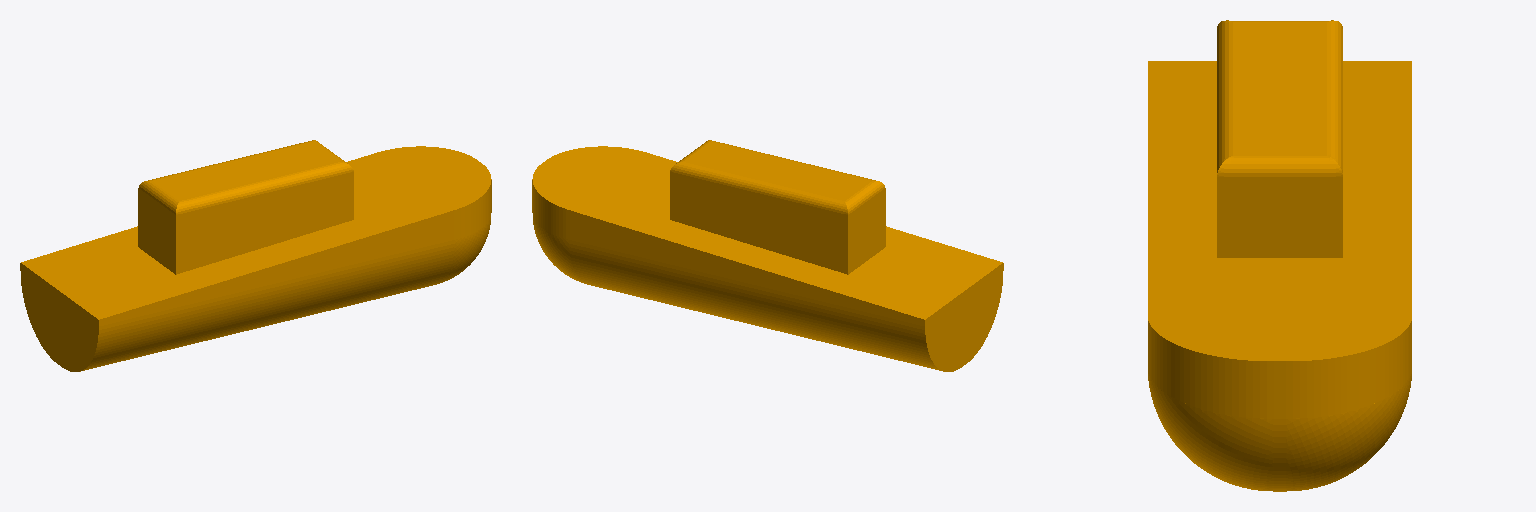
The robot description file, URDF, robot "small_motor_boat_vessel":
<?xml version="1.0"?>
<!-- Controllable small motor boat traffic vessel. See sail_boat_vessel.urdf
     for the general method (mesh/box match models/small_motor_boat_vessel/
     model.sdf; mass is a class-plausible estimate - ~2000 kg for a ~6.5m
     motor boat; inertia is the solid-box approximation from that mass and
     the collision box). -->
<robot name="small_motor_boat_vessel">
    <link name="base_link">
        <inertial>
            <origin xyz="0 0 -1.1" rpy="0 0 0"/>
            <mass value="2000"/>
            <inertia ixx="1541.67" ixy="0" ixz="0" iyy="7848.33" iyz="0" izz="7776.67"/>
        </inertial>
        <visual>
            <origin xyz="0 0 -1.1" rpy="0 0 0"/>
            <geometry>
                <mesh filename="package://hybraut_nav_colreg_sim/models/small_motor_boat_vessel/meshes/SmallMotorBoat.obj" scale="0.005 0.005 0.005"/>
            </geometry>
        </visual>
        <collision>
            <origin xyz="0 0 -1.1" rpy="0 0 0"/>
            <geometry>
                <box size="6.5 2.1 2.2"/>
            </geometry>
        </collision>
    </link>

    <gazebo reference="base_link">
        <gravity>false</gravity>
    </gazebo>

    <gazebo>
        <static>false</static>
        <plugin filename="gz-sim-velocity-control-system" name="gz::sim::systems::VelocityControl">
        </plugin>
        <plugin filename="gz-sim-odometry-publisher-system" name="gz::sim::systems::OdometryPublisher">
            <!-- Prefixed with the model name - see hydrofoil.urdf's
                 OdometryPublisher block for why: plain odom/base_link here
                 would collide with every other vessel's frame_ids on the
                 shared /tf topic. -->
            <odom_frame>small_motor_boat_vessel/odom</odom_frame>
            <robot_base_frame>small_motor_boat_vessel/base_link</robot_base_frame>
            <odom_publish_frequency>50</odom_publish_frequency>
            <dimensions>3</dimensions>
        </plugin>
    </gazebo>
</robot>

--- What the picture shows (computed from the rendered views, not written in the file) ---
3 views of the same robot in one strip: view 1: azimuth 30°, elevation 25°; view 2: azimuth 150°, elevation 25°; view 3: azimuth 270°, elevation 25° (orthographic).
Model small_motor_boat_vessel with 1 links and 0 joints (none), rooted at base_link, posed every joint at zero.
Links seen in each view (by area): view 1: base_link; view 2: base_link; view 3: base_link.
Link boxes in pixels (<box>): base_link: <box>20,140,491,371</box>; base_link: <box>532,140,1003,371</box>; base_link: <box>1148,20,1411,491</box>.
Size in the robot's own frame: 6.5 by 2.1 by 2.2 metres.
1 mesh visuals loaded from 1 distinct referenced files (1 OBJ).
